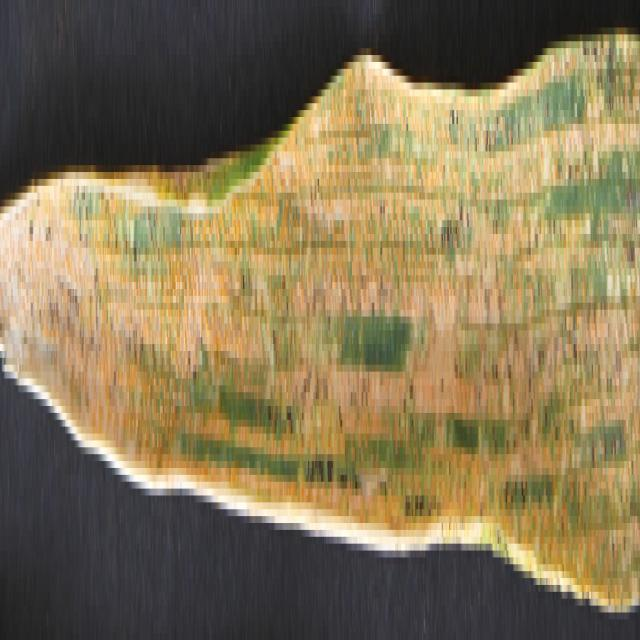leaf rust: (0, 41, 638, 626)
